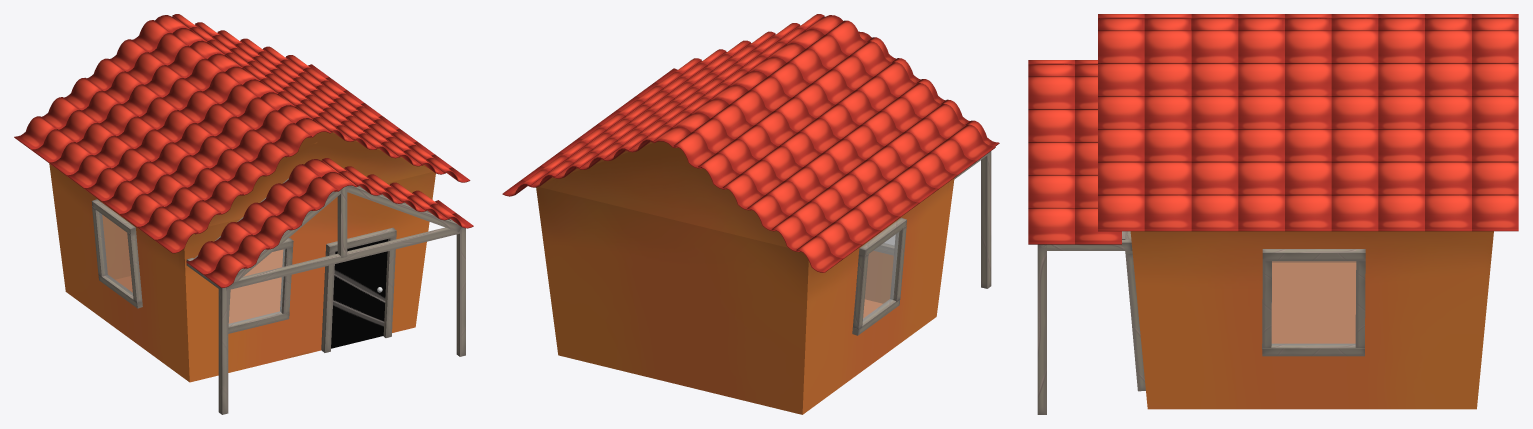
The model's file is Casinha.fbx.
3 views of the same model, side by side, from view 1: azimuth 30°, elevation 25°; view 2: azimuth 150°, elevation 25°; view 3: azimuth 270°, elevation 25° (orthographic). The views are drawn at different scales.
Parts seen in each view (by area): view 1: telhado, Cube.016, telhado.002, Cube.045, telhado.001, telhado.003, Plane.003, Plane.007, Cube, Plane.004, Plane.010, Cube.005 (+17 smaller); view 2: Cube.016, telhado, telhado.002, Cube.045, Plane.007, Plane.006, Plane.012, Cube, telhado.003, Cube.026, Cube.028, Cube.025 (+2 smaller); view 3: telhado, Cube.016, Cube.045, telhado.001, Plane.005, Plane.011, Plane.007, telhado.002, telhado.003, Cube, Cube.029, Cube.021 (+6 smaller).
Part boxes in pixels (<box>): telhado: <box>15,14,470,253</box>; Cube.016: <box>49,132,429,382</box>; telhado.002: <box>14,15,469,253</box>; Cube.045: <box>49,132,435,381</box>; telhado.001: <box>188,158,473,287</box>; telhado.003: <box>186,160,473,287</box>; Plane.003: <box>331,239,387,347</box>; Plane.007: <box>154,15,333,137</box>; Cube: <box>218,227,465,414</box>; Plane.004: <box>229,249,284,325</box>; Plane.010: <box>229,249,284,324</box>; Cube.005: <box>226,227,461,290</box>; Cube.016: <box>536,141,954,414</box>; telhado: <box>502,14,978,272</box>; telhado.002: <box>515,14,995,272</box>; Cube.045: <box>545,142,953,414</box>; Plane.007: <box>653,18,842,147</box>; Plane.006: <box>863,233,898,321</box>; Plane.012: <box>863,232,898,321</box>; Cube: <box>981,151,991,288</box>; telhado.003: <box>868,37,999,146</box>; Cube.026: <box>890,226,905,301</box>; Cube.028: <box>853,253,868,329</box>; Cube.025: <box>859,217,906,255</box>; telhado: <box>1098,14,1518,231</box>; Cube.016: <box>1130,231,1493,409</box>; Cube.045: <box>1130,231,1493,409</box>; telhado.001: <box>1028,60,1121,244</box>; Plane.005: <box>1272,261,1355,345</box>; Plane.011: <box>1272,262,1355,345</box>; Plane.007: <box>1098,19,1518,30</box>; telhado.002: <box>1098,14,1474,229</box>; telhado.003: <box>1028,60,1121,242</box>; Cube: <box>1037,244,1046,414</box>; Cube.029: <box>1037,244,1046,414</box>; Cube.021: <box>1262,249,1365,261</box>.
Size of the model in its own units: 2443 by 1861 by 2623.
